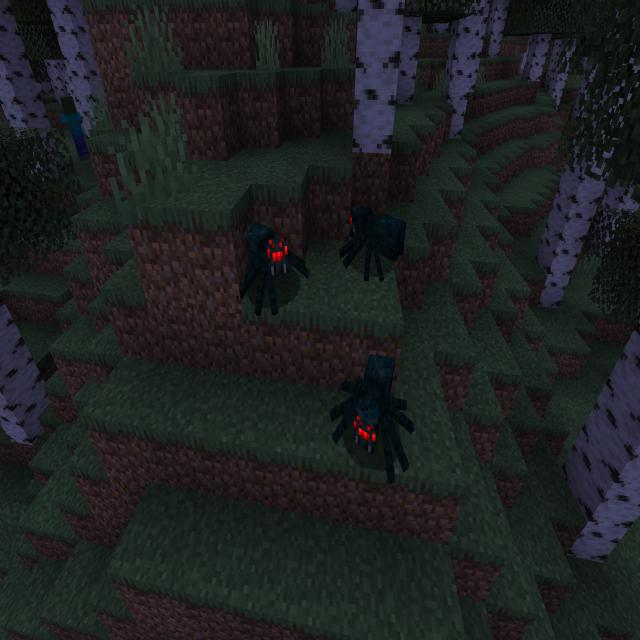Cave Spider: (324, 338, 417, 488), (230, 214, 312, 318), (338, 195, 406, 284)
